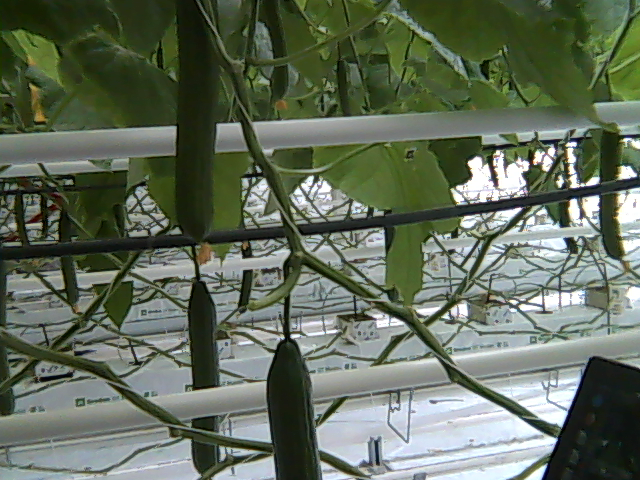concombre: (173, 1, 223, 270), (262, 328, 329, 480)
